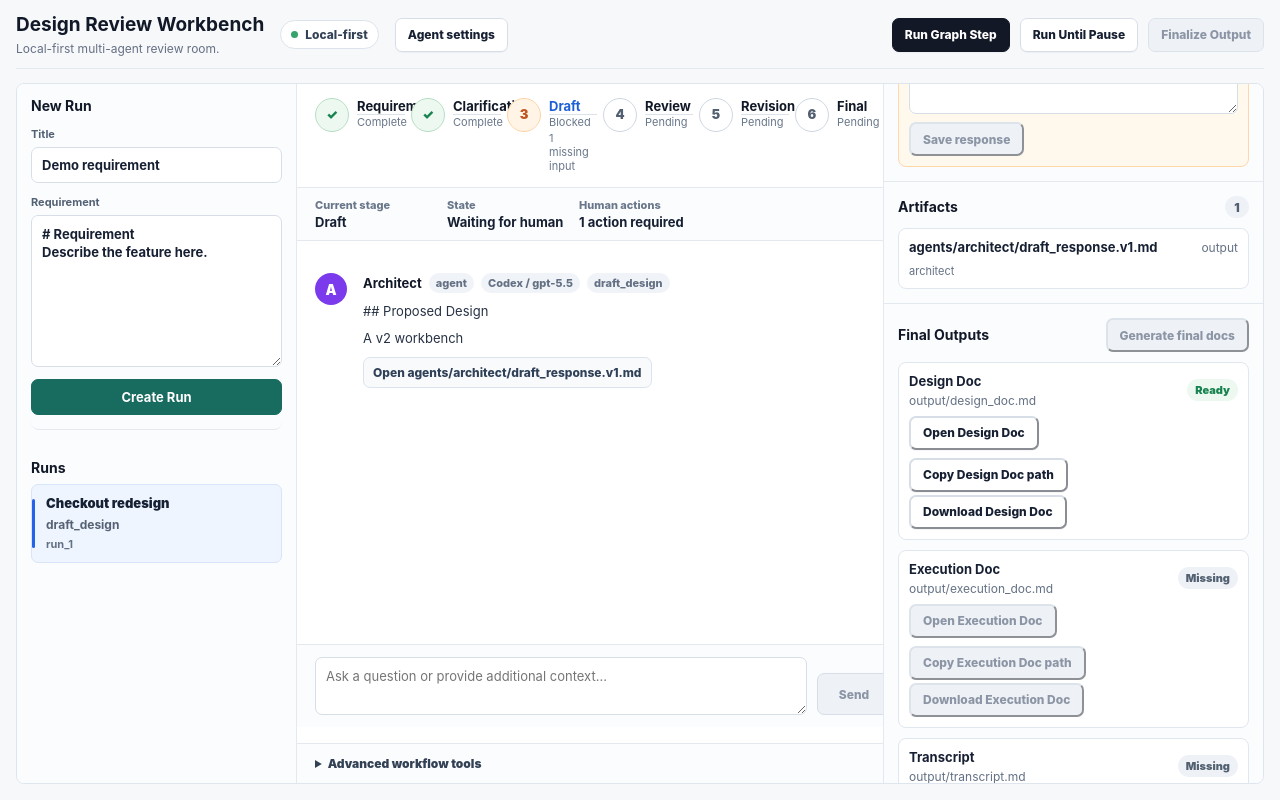
RunListPage › opens final output content from the workbench
(page scrolled)
Click the button "Open Design Doc": (974, 433) [909,416,1039,450]
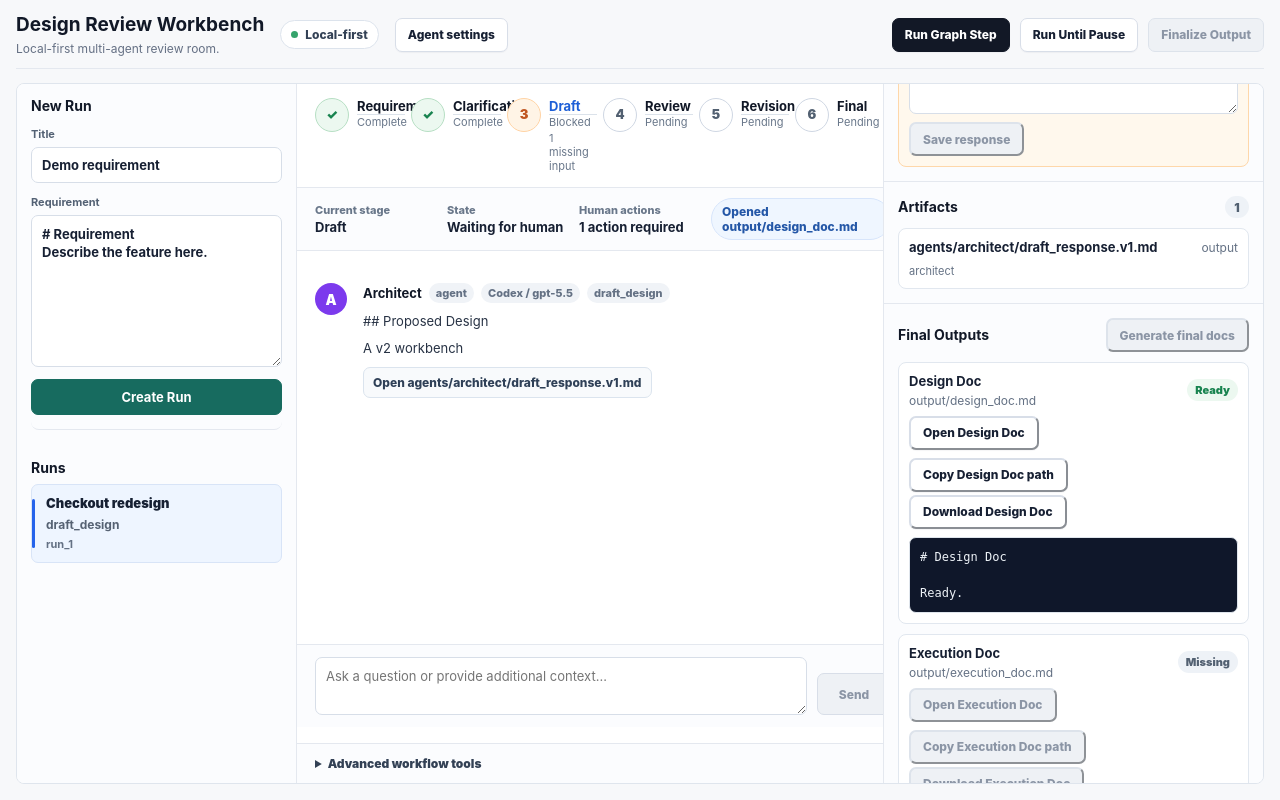
expect the text "# Design Doc" is shown: met, box [920,550,1007,564]
expect the text "Ready." is shown: met, box [920,586,963,600]
